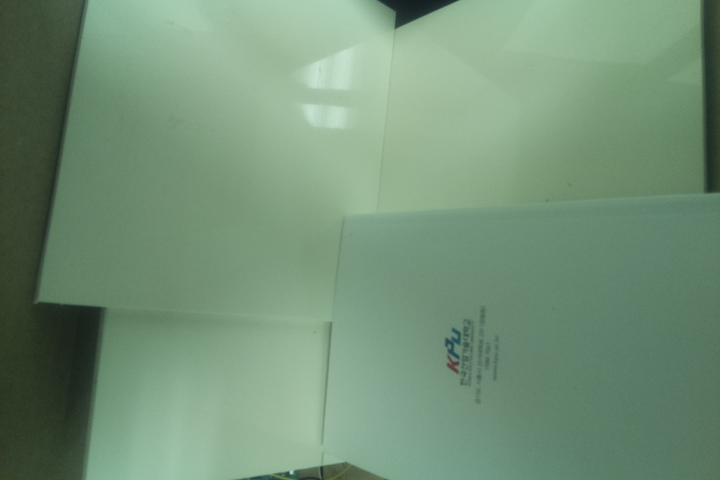book: (322, 192, 720, 479)
